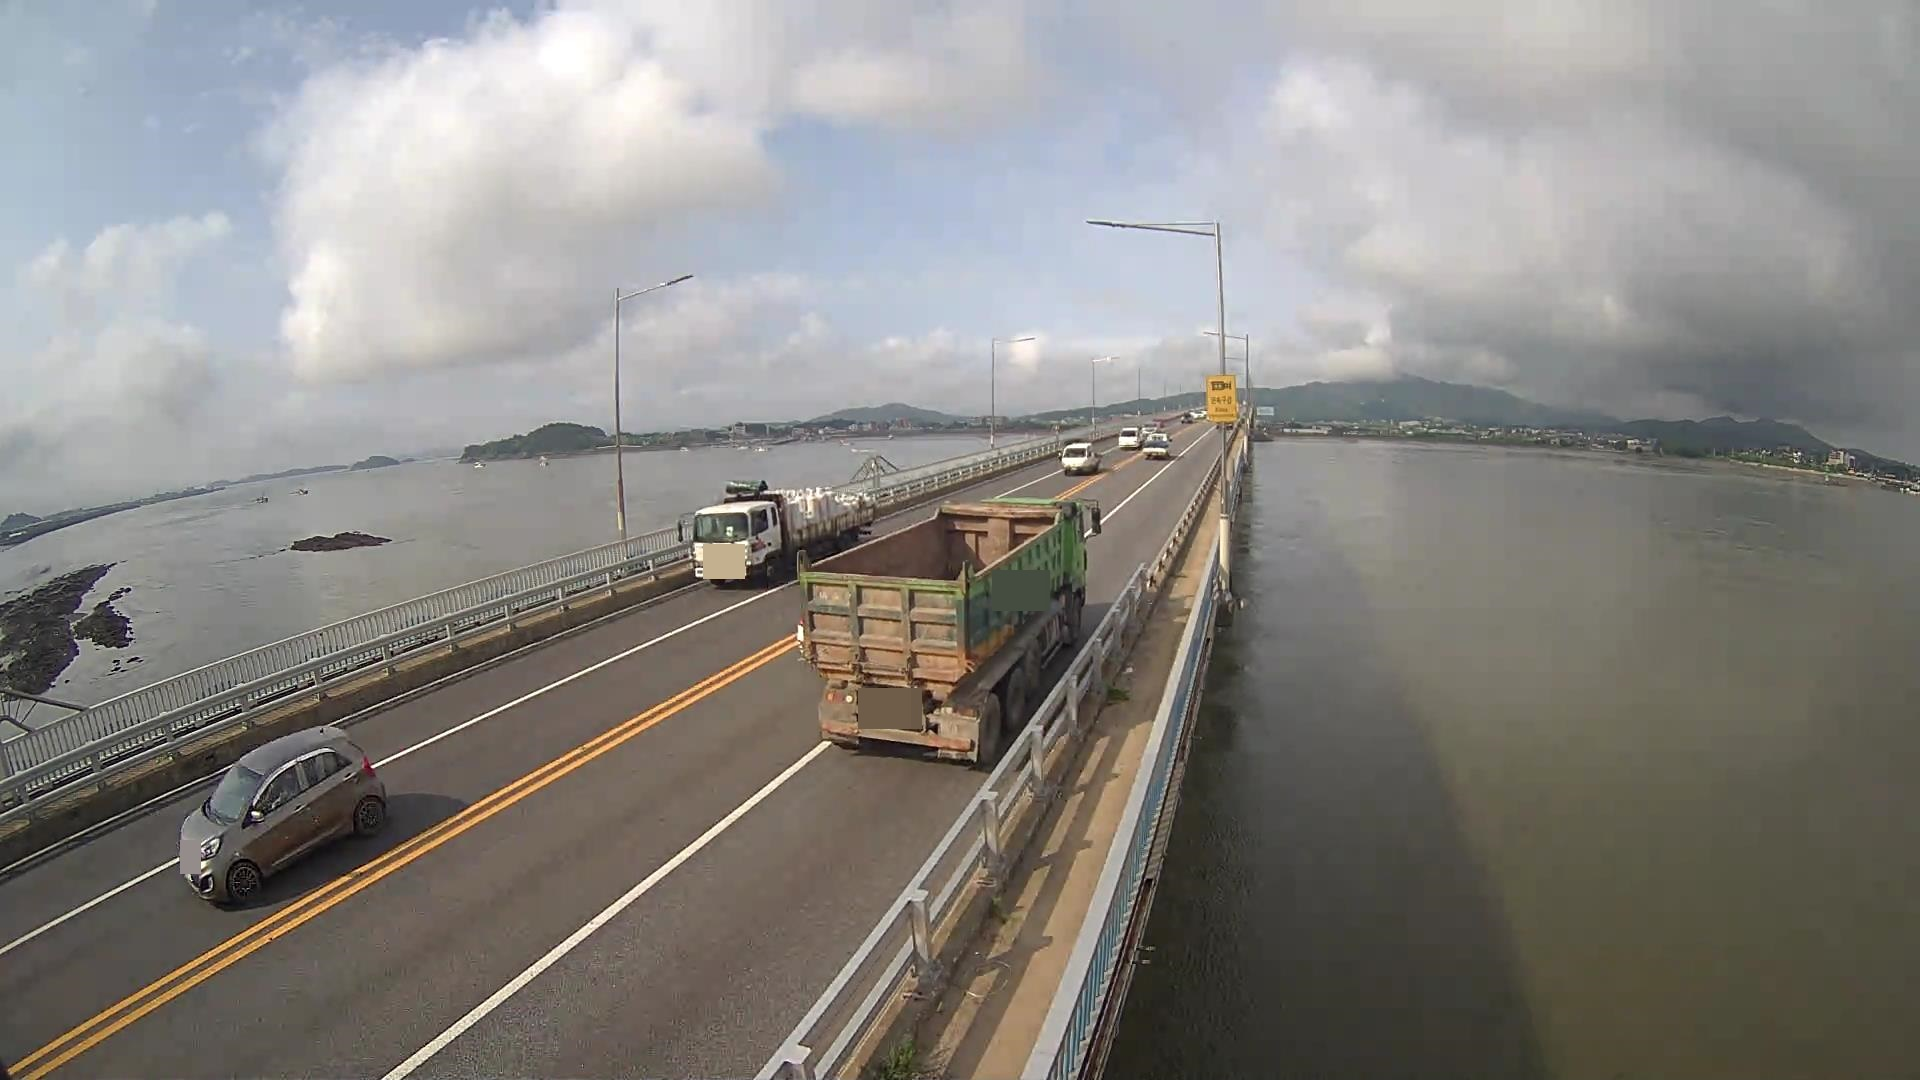정상차량: (797, 497, 1101, 763)
